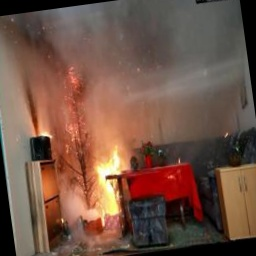fire: (62, 143, 133, 240)
